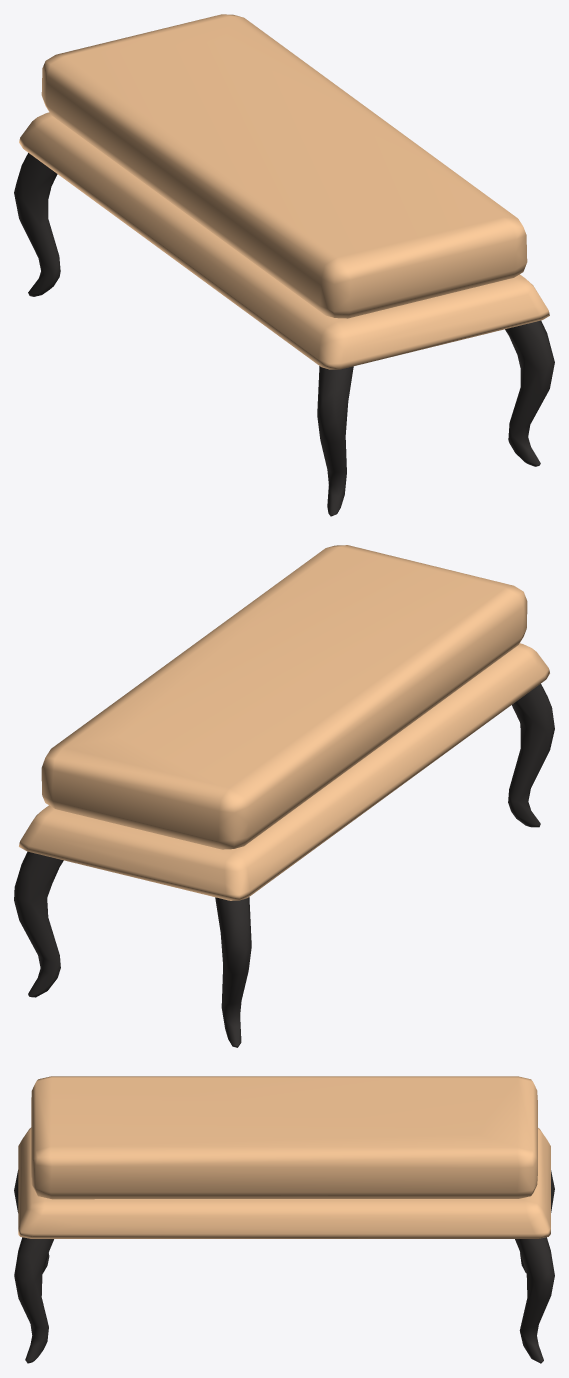
The model's file is footstool_01_bisque.fbx.
The picture shows the model from 3 angles, top to bottom: view 1: azimuth 30°, elevation 25°; view 2: azimuth 150°, elevation 25°; view 3: azimuth 270°, elevation 25°; orthographic projection. The views are drawn at different scales.
Parts seen in each view (by area): view 1: footstool_01_bisque; view 2: footstool_01_bisque; view 3: footstool_01_bisque.
Boxes of the visible parts, x1=… form: footstool_01_bisque: x1=14, y1=14, x2=554, y2=516; footstool_01_bisque: x1=14, y1=545, x2=554, y2=1047; footstool_01_bisque: x1=14, y1=1076, x2=554, y2=1363.
Size of the model in its own units: 46.53 by 46.52 by 109.
Materials: 2 (2 with a texture image).
